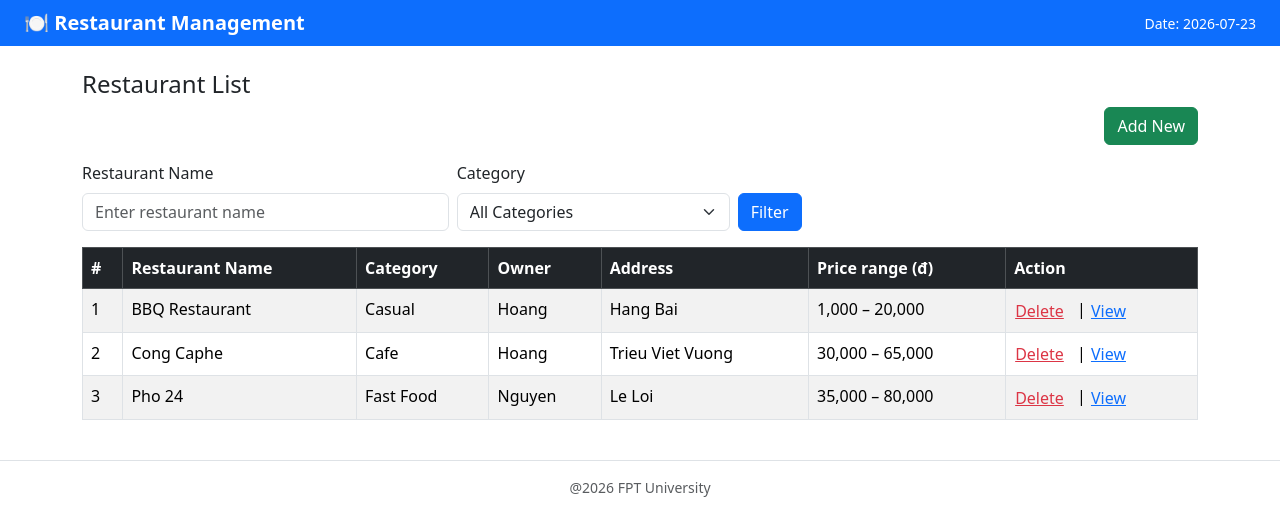
Test case: RestaurantListPage — filter › lọc theo tên hiển thị đúng kết quả
Expected: the text "BBQ Restaurant" is shown, [123,288,356,332]
Type "BBQ" into the field with placeholder "Enter restaurant name".
click(265, 212); type("BBQ")  # box [82,193,449,231]
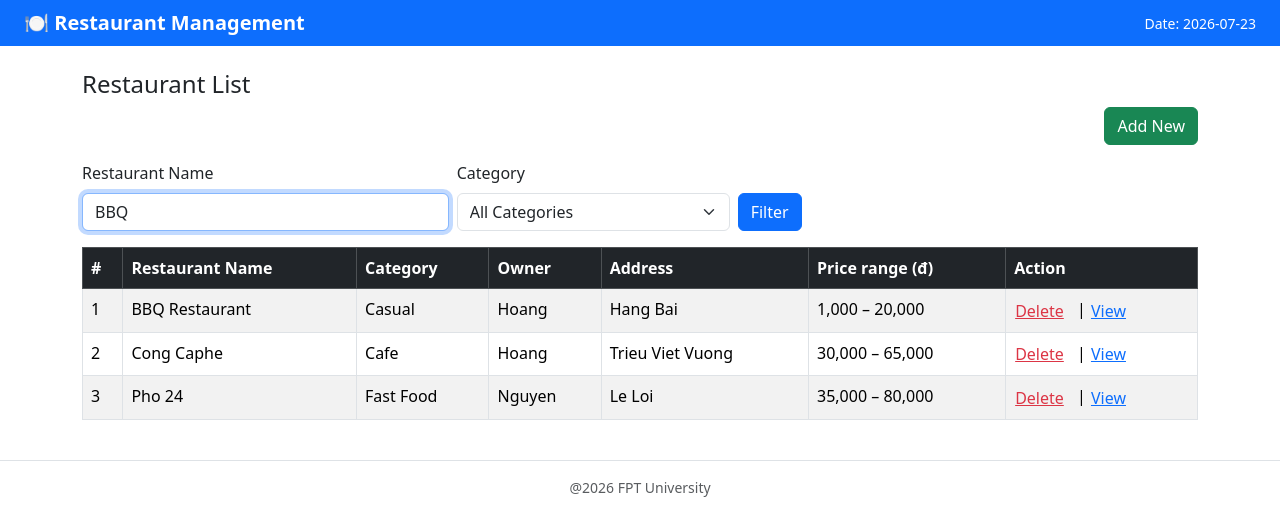
Click the button "Filter".
click(770, 212)  # box [738,193,802,231]
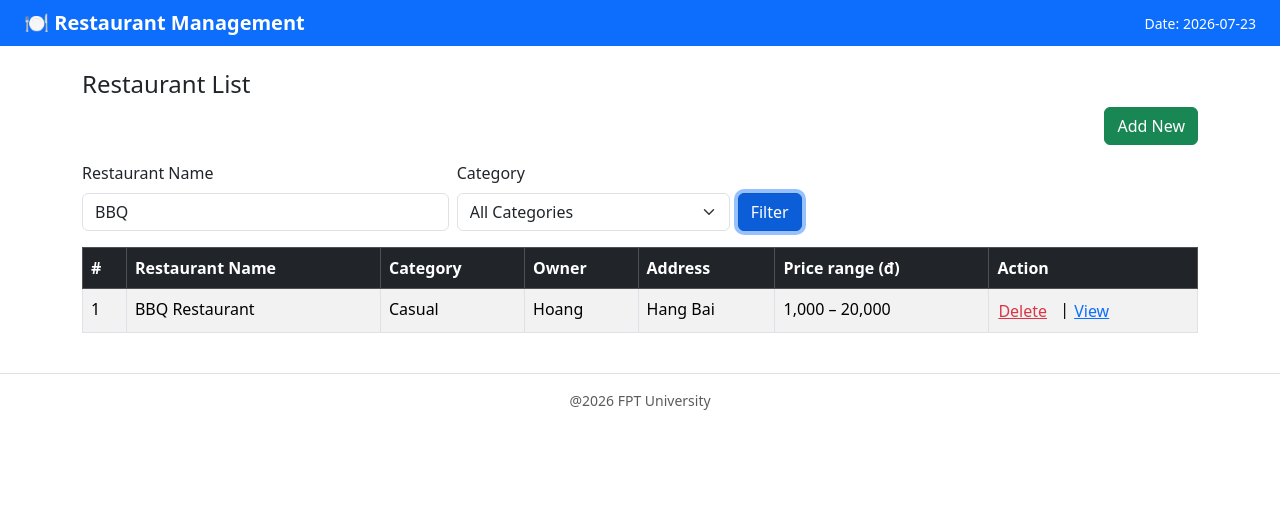
Expected: the text "BBQ Restaurant" is shown, [126,288,380,332]
Now the text "Pho 24" is gone
